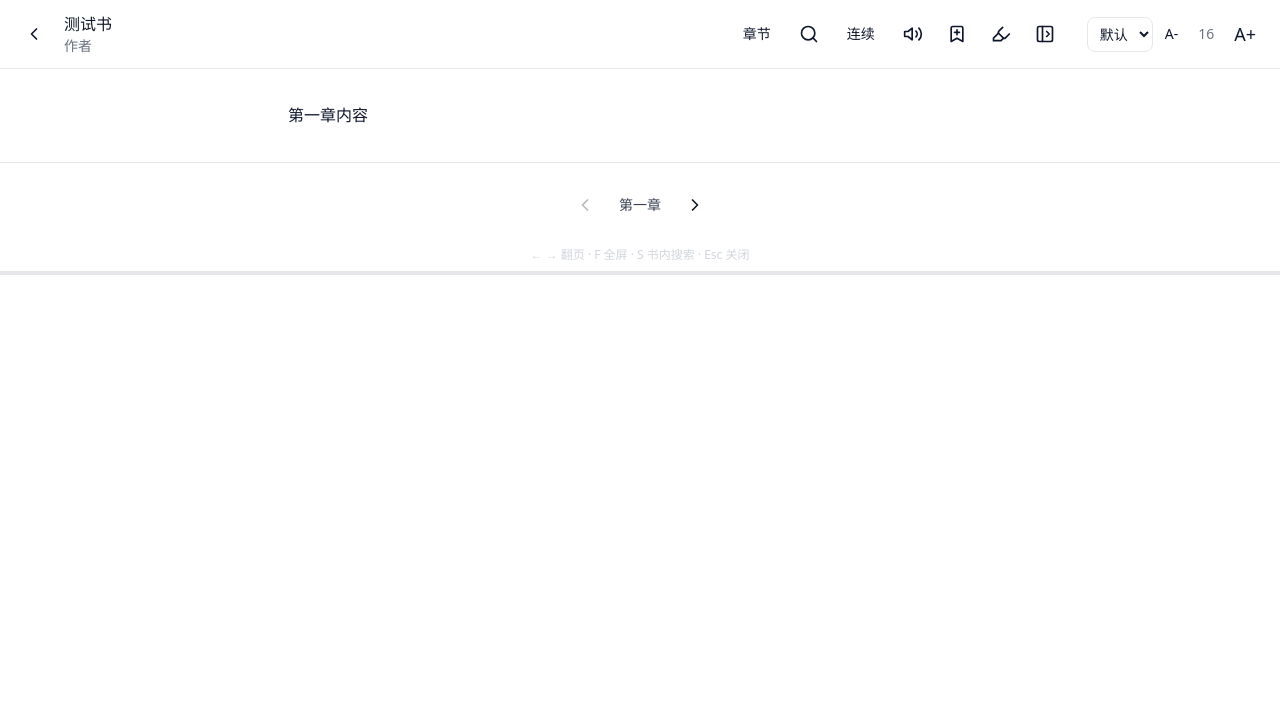
Test case: BookReader（EPUB 特征基线） › 书内搜索面板可打开并命中关键词（章节文本缓存路径）
The image size is (1280, 720).
Expected: the text "第一章内容" is shown, left=288, top=104, right=368, bottom=126
// S 快捷键打开书内搜索
Press s
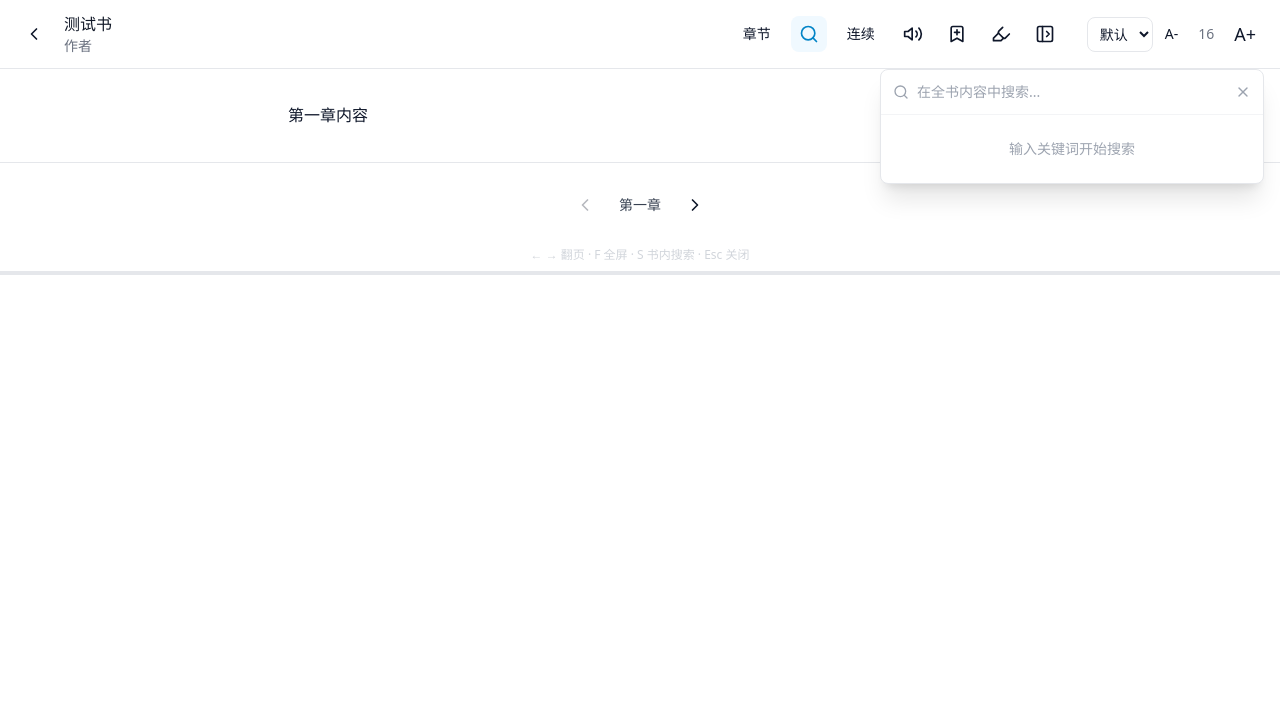
In the field with placeholder "在全书内容中搜索...": x=1072, y=92 left=917, top=78, right=1227, bottom=106, type "第二章"
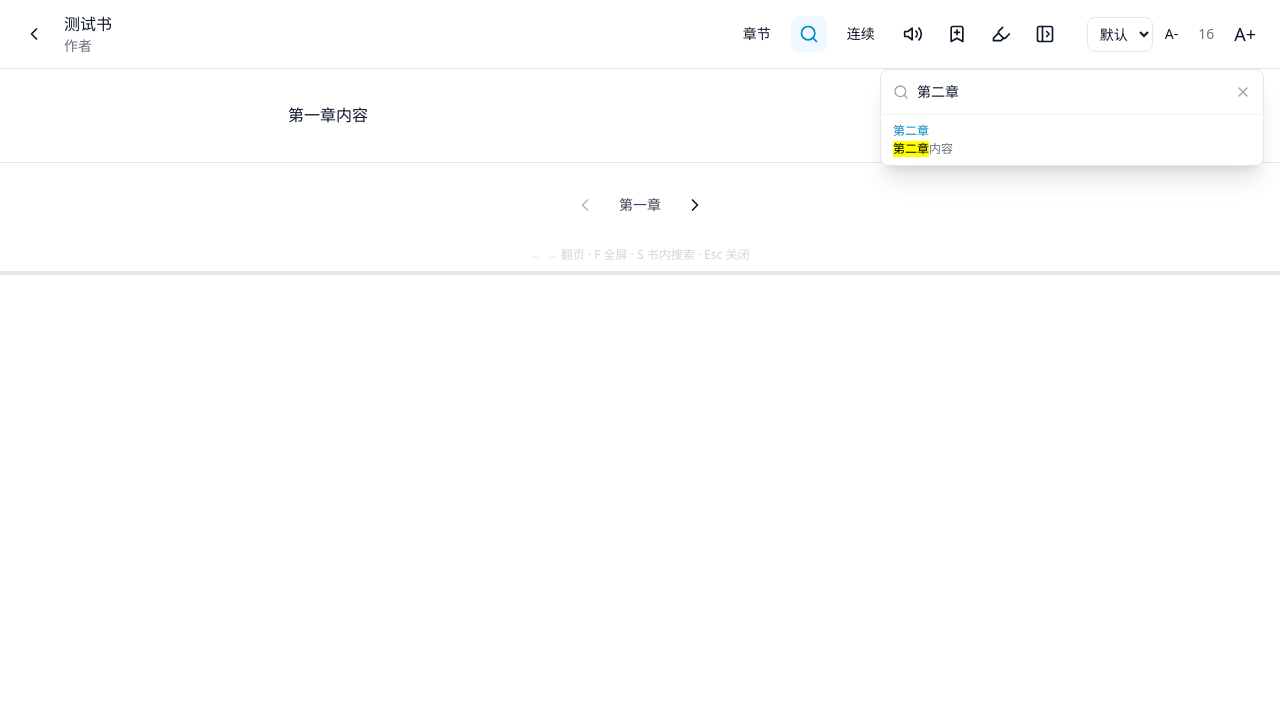
Expected: the 1st text "第二章" is shown, left=893, top=122, right=929, bottom=139
